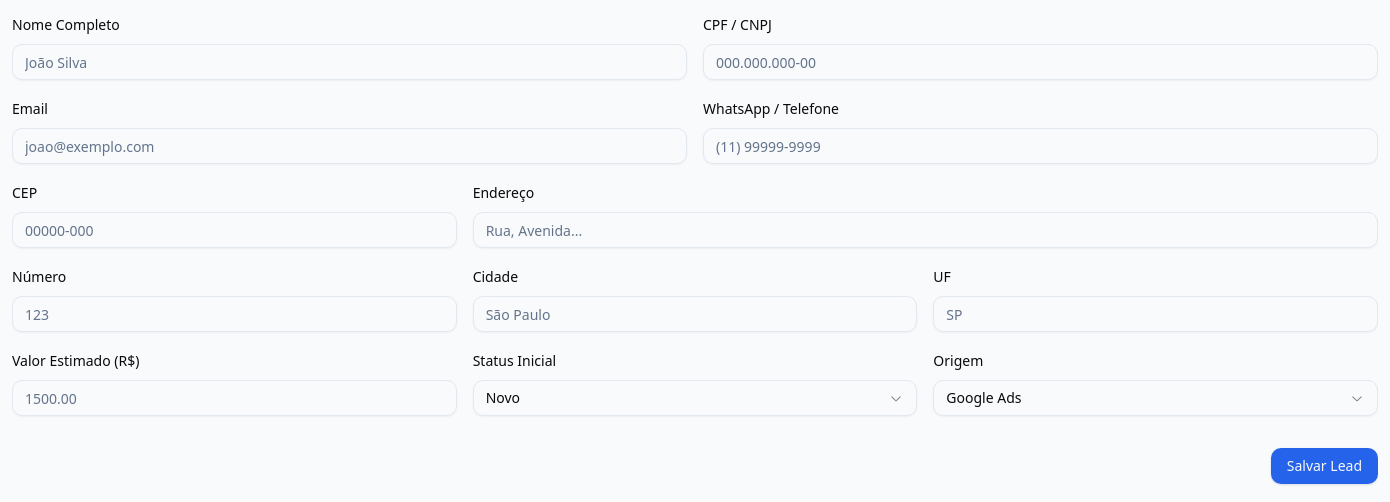
it: LeadForm Integration › should fetch CEP and fill address
Type "01001000" into the field labelled "CEP" at (234,230), box [12,212,457,248]
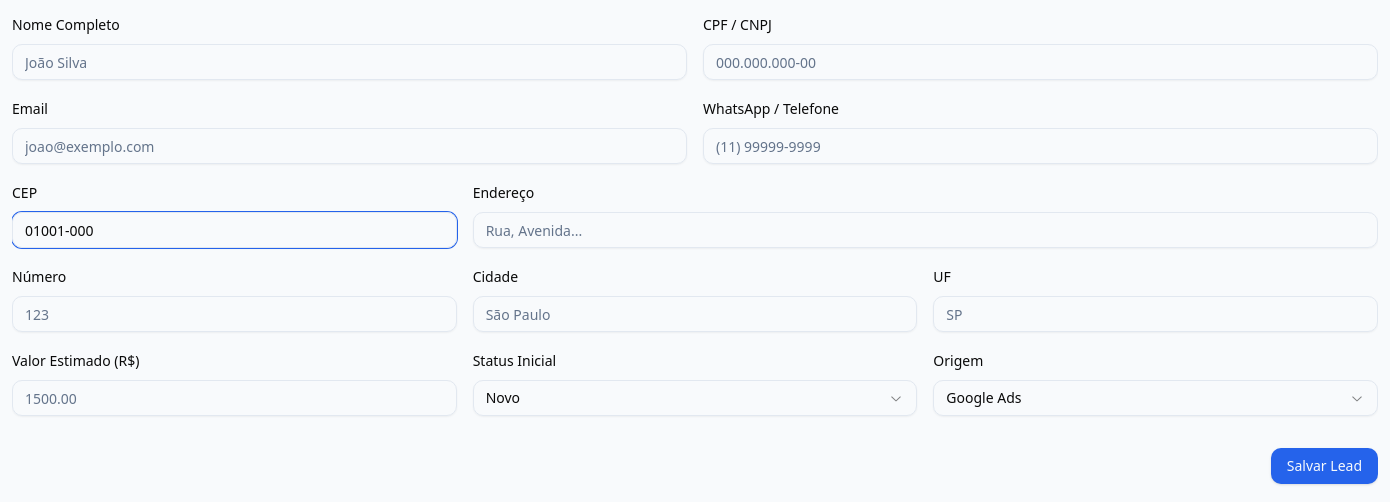
// Trigger blur to fire handleCepBlur
Leave the field labelled "CEP", box [12,212,457,248]
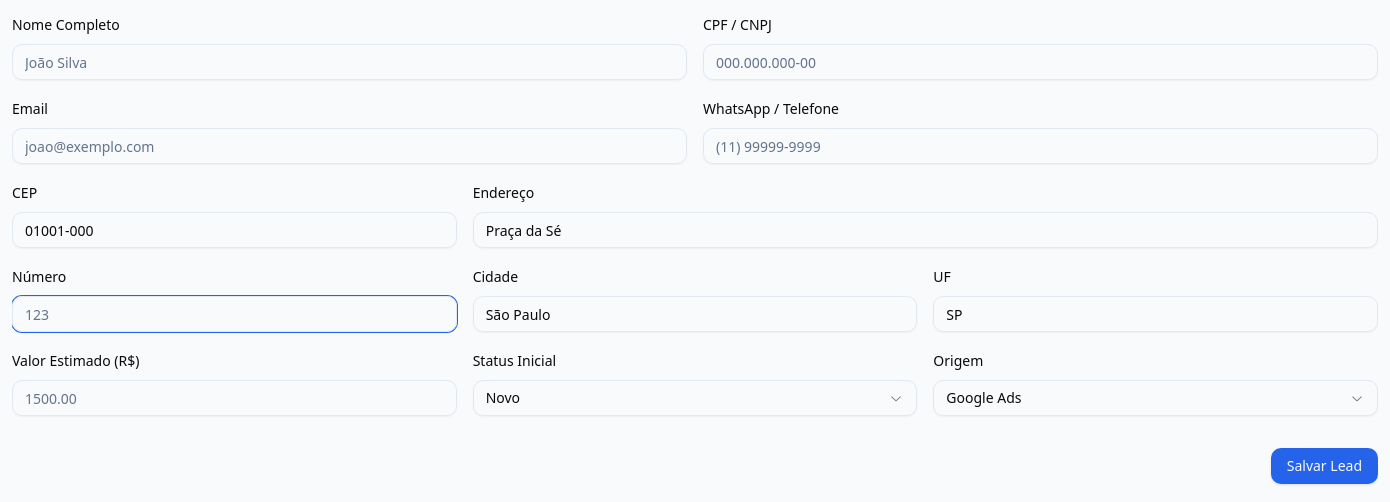
Expected: the field showing "São Paulo" is shown, [473,296,917,332]
Now the field showing "Praça da Sé" is shown, box [473,212,1378,248]
